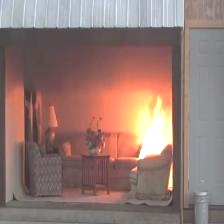fire: (126, 94, 175, 158)
